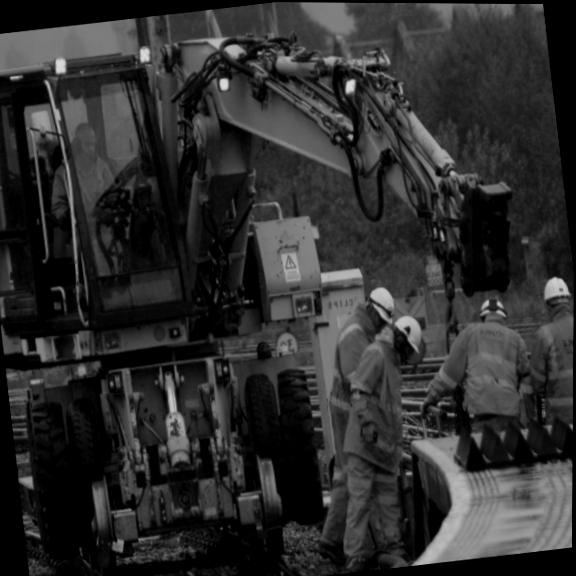safety_vest: (443, 306, 537, 430), (341, 341, 422, 463), (523, 310, 574, 420)
